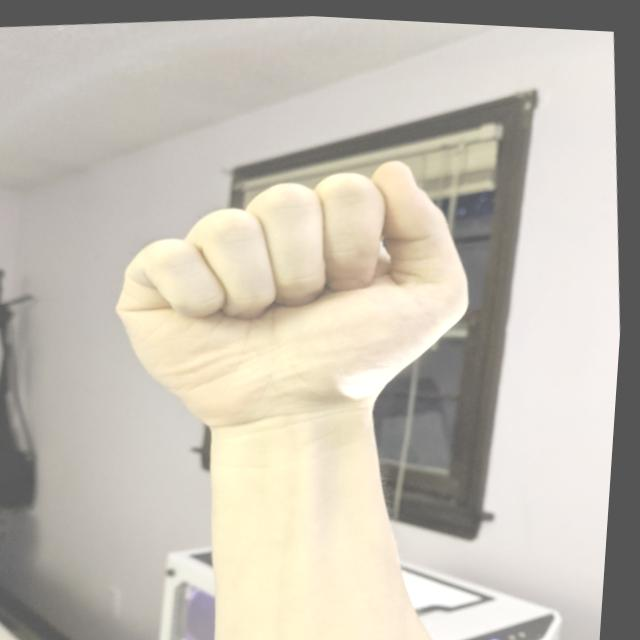A: (87, 130, 500, 466)
